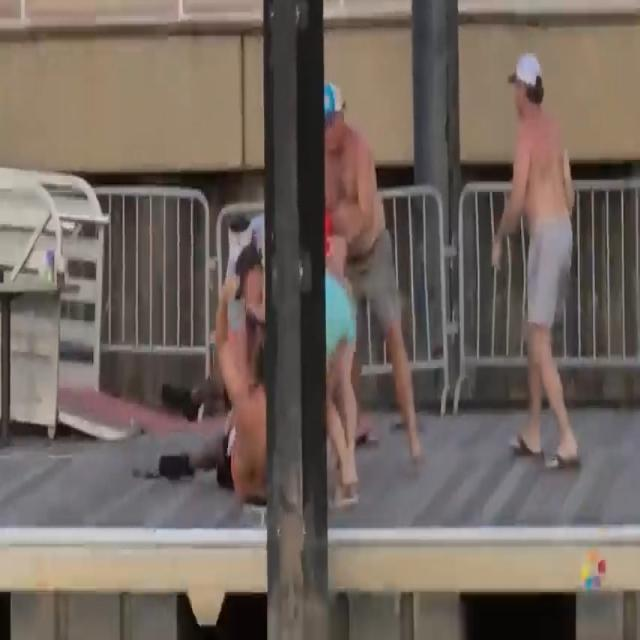fight: (134, 64, 428, 520)
non-fight: (480, 25, 593, 482)
